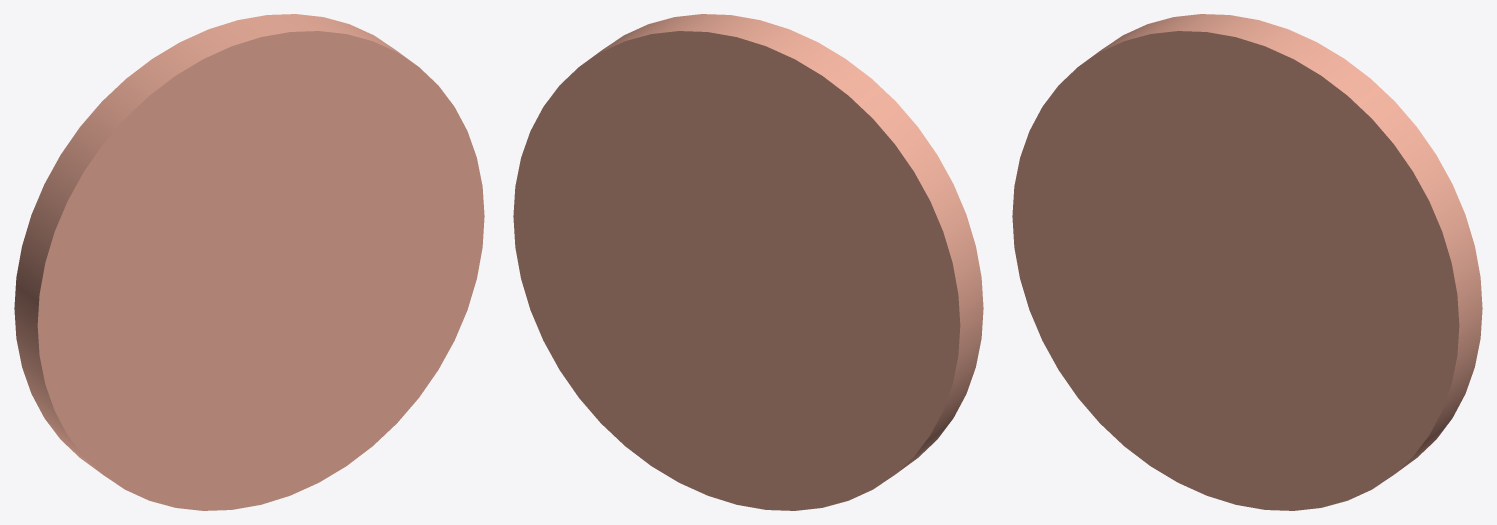
File: badge_andy_footprint.glb
3 views of the same model, side by side, from view 1: azimuth 30°, elevation 25°; view 2: azimuth 150°, elevation 25°; view 3: azimuth 330°, elevation 25° (orthographic).
Parts seen in each view (by area): view 1: badge; view 2: badge; view 3: badge.
Part boxes in pixels (x1,y1,x2,y2): badge: [14, 14, 484, 510]; badge: [513, 14, 983, 510]; badge: [1012, 14, 1482, 510].
Size of the model in its own units: 2 by 2 by 0.18.
